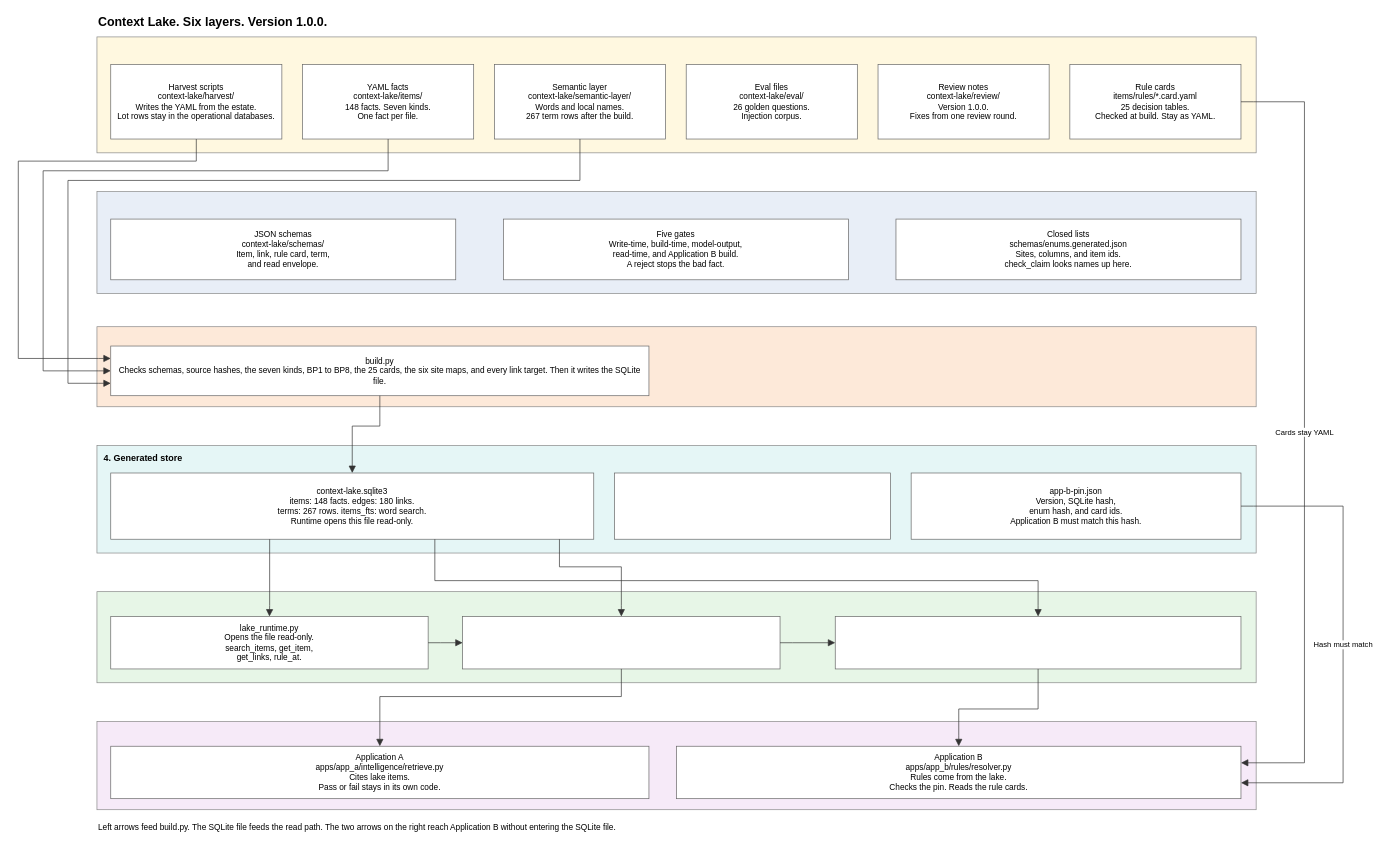
This 1385x849 diagram has some shape labels left out. Each missing label, with the box of its shape:
1. Authoring: (96, 36, 1256, 153)
2. Contracts: (96, 191, 1256, 294)
3. Build: (96, 326, 1256, 407)
5. Read path: (96, 591, 1256, 683)
6. Readers: (96, 721, 1256, 810)
Lake MCP mcp_server.py Port 8092. Same four tools. Calls lake_runtime.: (835, 616, 1241, 669)
Lake REST rest_server.py Port 8091. Calls lake_runtime.: (462, 616, 780, 669)
manifest.json Build receipt. Version 1.0.0, counts, and the SQLite hash.: (614, 472, 890, 539)
